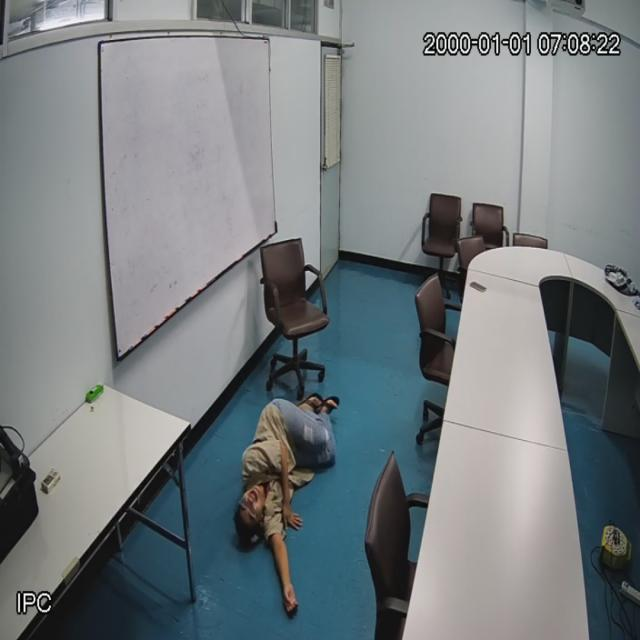fall: (237, 384, 337, 615)
